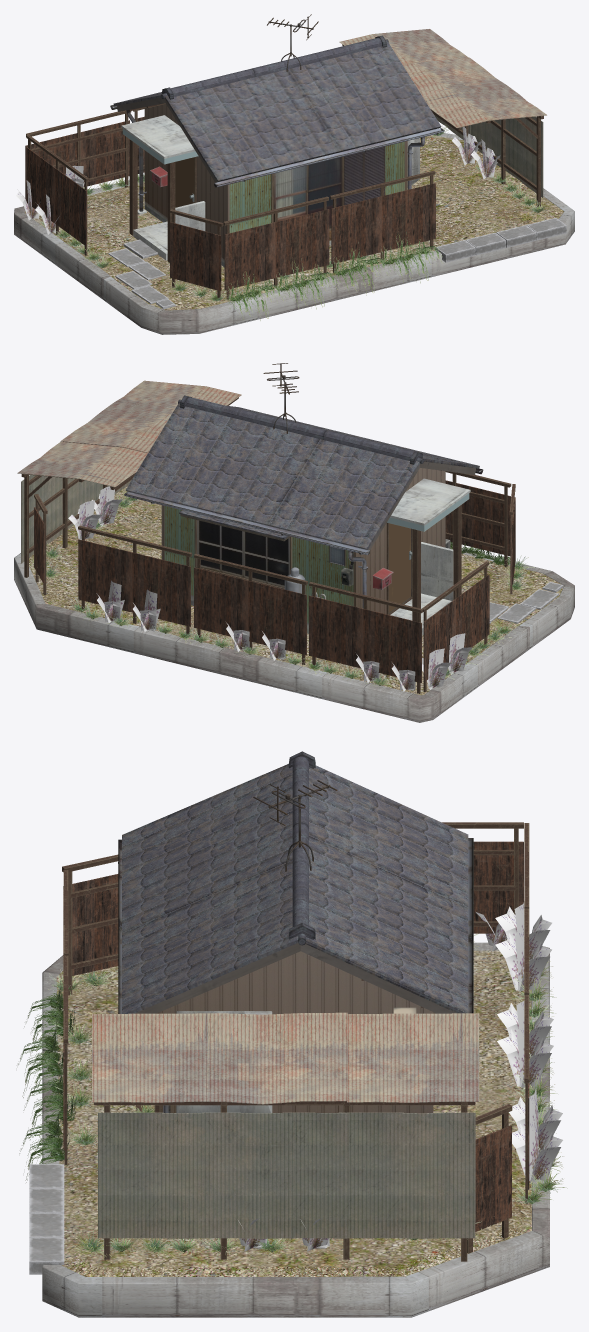
File: houseset02.fbx
The picture shows the model from 3 angles, top to bottom: view 1: azimuth 30°, elevation 25°; view 2: azimuth 150°, elevation 25°; view 3: azimuth 270°, elevation 25°; orthographic projection. The views are drawn at different scales.
Parts seen in each view (by area): view 1: houseset02; view 2: houseset02; view 3: houseset02.
Boxes of the visible parts, <box> form: houseset02: <box>14,14,574,334</box>; houseset02: <box>14,363,574,722</box>; houseset02: <box>18,751,567,1317</box>.
Bounding box in the file's own units: 1087 × 741 × 536.
Materials: 15 (15 with a texture image).
